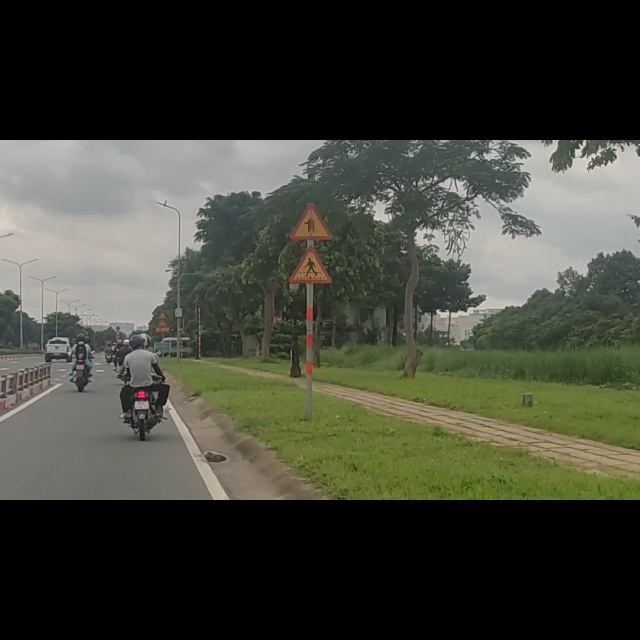bien_cam: (288, 187, 333, 255), (291, 111, 334, 178)
